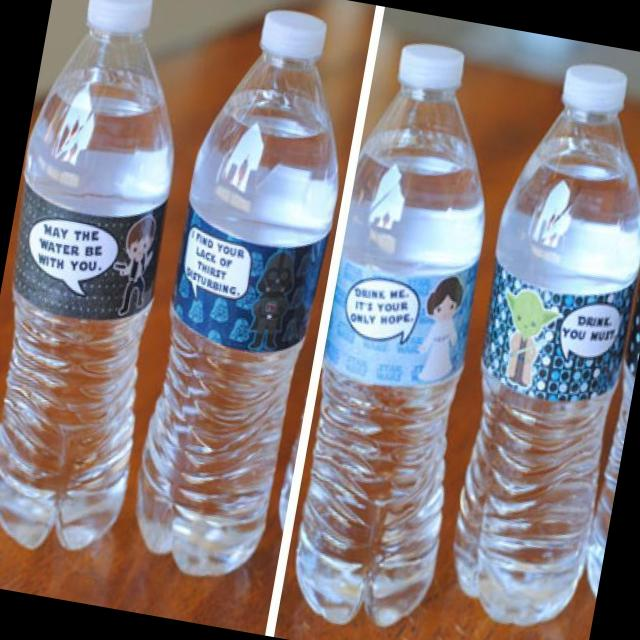plastic_bottle: (278, 36, 524, 638), (122, 0, 367, 589), (429, 53, 640, 635), (0, 0, 212, 564), (578, 182, 640, 599)
